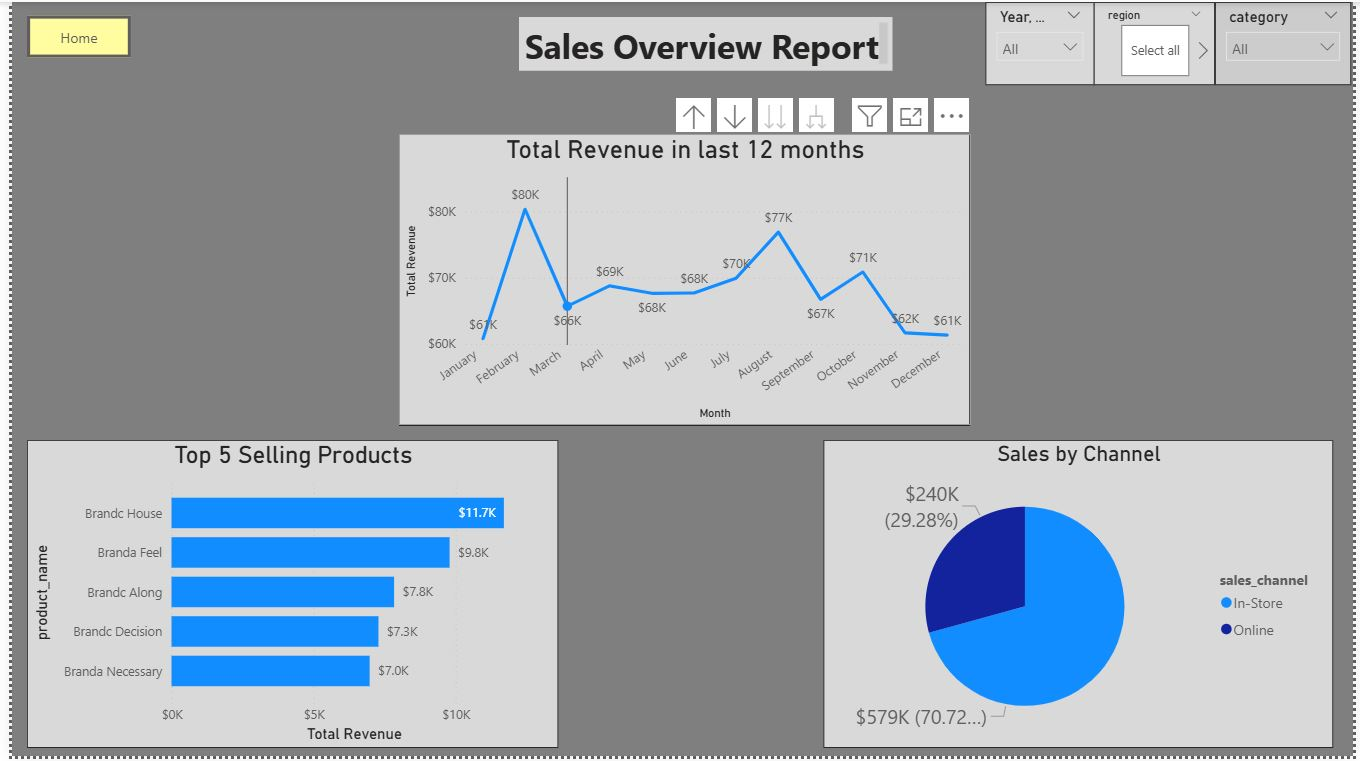

This screenshot's page, from the dashboard's own definition file:
{"tool":"powerbi","page":{"name":"Sales Overview Report","canvas":[1280,720],"ordinal":1},"visuals":[{"type":"lineChart","title":"Total Revenue in last 12 months","fields":{"Category":["sales_cleaned.order_date.Variation.Date Hierarchy.Year","sales_cleaned.order_date.Variation.Date Hierarchy.Month"],"Y":["sales_cleaned.Total Revenue"]},"box":[369,125.7,545.6,278.4],"z":0},{"type":"barChart","title":"Top 5 Selling Products","fields":{"Category":["products_cleaned.product_name"],"Y":["sales_cleaned.Total Revenue"]},"box":[14.3,418.3,507.4,294.3],"z":1000},{"type":"pieChart","title":"Sales by Channel","fields":{"Category":["sales_cleaned.sales_channel"],"Y":["sales_cleaned.Total Revenue"]},"box":[774.6,418.3,486.7,294.3],"z":2000},{"type":"slicer","fields":{"Values":["customers_cleaned.region"]},"box":[1032.9,0,116.3,79.1],"z":3000},{"type":"slicer","fields":{"Values":["sales_cleaned.order_date.Variation.Date Hierarchy.Year","sales_cleaned.order_date.Variation.Date Hierarchy.Quarter","sales_cleaned.order_date.Variation.Date Hierarchy.Month"]},"box":[929,0,103.9,79.1],"z":4000},{"type":"slicer","fields":{"Values":["products_cleaned.category"]},"box":[1149.2,0,130.3,79.1],"z":5000},{"type":"textbox","box":[483.9,14,356.7,51.2],"z":6000},{"type":"actionButton","box":[14,12.4,99.3,40.3],"z":7000}]}

Visuals, with their boxes in screenshot pixels (x1, y1, x2, y2), scaled from the page's 1280x720 canvas onto the 1360x761 screenshot:
"Total Revenue in last 12 months" lineChart: box(392, 133, 972, 427)
"Top 5 Selling Products" barChart: box(15, 442, 554, 753)
"Sales by Channel" pieChart: box(823, 442, 1340, 753)
slicer - customers_cleaned.region: box(1097, 0, 1221, 84)
slicer - sales_cleaned.order_date.Variation.Date Hierarchy.Year x sales_cleaned.order_date.Variation.Date Hierarchy.Quarter: box(987, 0, 1097, 84)
slicer - products_cleaned.category: box(1221, 0, 1359, 84)
textbox: box(514, 15, 893, 69)
actionButton: box(15, 13, 120, 56)
